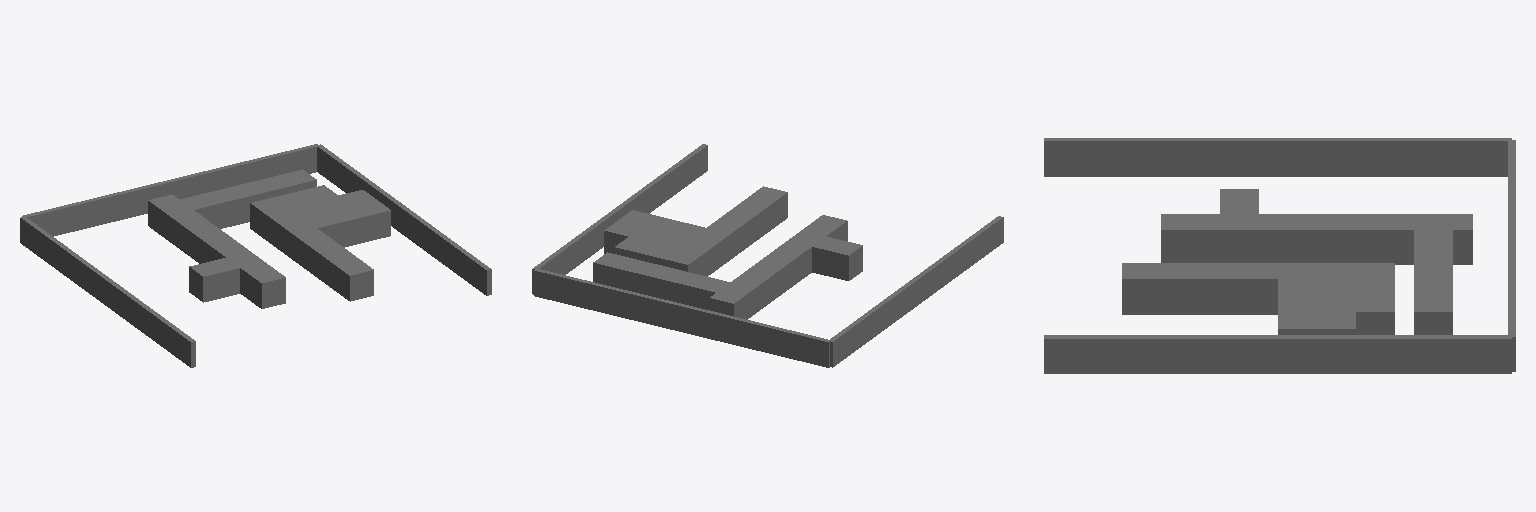
URDF robot description (plane):
<?xml version="0.0" ?>
<robot name="plane">
  <link name="planeLink">
  <contact>
      <lateral_friction value="1"/>
  </contact>
    <inertial>
      <origin rpy="0 0 0" xyz="0 0 0"/>
       <mass value=".0"/>
       <inertia ixx="0" ixy="0" ixz="0" iyy="0" iyz="0" izz="0"/>
    </inertial>
    <visual>
      <origin rpy="0 0 0" xyz="0 0 0"/>
      <geometry>
				<mesh filename="plane100.obj" scale="1 1 1"/>
      </geometry>
       <material name="white">
        <color rgba="1 1 1 1"/>
      </material>
    </visual>
    <collision>
      <origin rpy="0 0 0" xyz="0 0 -5"/>
      <geometry>
	 	<box size="200 200 10"/>
      </geometry>
    </collision>
  </link>

  <joint name="box_2_joint" type="fixed">
    <origin rpy="0 0 0" xyz="0 0 0.05"/>
    <parent link="planeLink"/>
    <child link="box_2"/>
  </joint>

  <link name="box_2">
  	<visual>
      <origin rpy="0 0 0" xyz="-2 -0.5 0"/>
      <geometry>
	 	<box size="1 0.5 0.5"/>
      </geometry>
      <material name="grey">
	    <color rgba="0.5 0.5 0.5 1"/>
	  </material>
    </visual>
    <collision>
      <origin rpy="0 0 0" xyz="-2 -0.5 0"/>
      <geometry>
	 	<box size="1 0.5 0.5"/>
      </geometry>
    </collision>
    <inertial>
      <mass value="1"/>
      <inertia ixx="0.0" ixy="0.0" ixz="0.0" iyy="0.0" iyz="0.0" izz="0.0"/>
    </inertial>
  </link>
  
    <joint name="box_1_joint" type="fixed">
      <origin rpy="0 0 0" xyz="0 0 0.05"/>
      <parent link="planeLink"/>
      <child link="box_1"/>
    </joint>

    <link name="box_1">
    	<visual>
        <origin rpy="0 0 0" xyz="-1.5 0.5 0"/>
        <geometry>
  	 	<box size="0.5 4 0.5"/>
        </geometry>
        <material name="grey">
  	    <color rgba="0.5 0.5 0.5 1"/>
  	  </material>
      </visual>
      <collision>
        <origin rpy="0 0 0" xyz="-1.5 0 0"/>
        <geometry>
  	 	<box size="0.5 4 0.5"/>
        </geometry>
      </collision>
      <inertial>
        <mass value="1"/>
        <inertia ixx="0.0" ixy="0.0" ixz="0.0" iyy="0.0" iyz="0.0" izz="0.0"/>
      </inertial>
    </link>
    
    <joint name="box_3_joint" type="fixed">
      <origin rpy="0 0 0" xyz="0 0 0.05"/>
      <parent link="planeLink"/>
      <child link="box_3"/>
    </joint>

    <link name="box_3">
    	<visual>
        <origin rpy="0 0 0" xyz="0 -0.5 0"/>
        <geometry>
  	 	<box size="0.5 3 0.5"/>
        </geometry>
        <material name="grey">
  	    <color rgba="0.5 0.5 0.5 1"/>
  	  </material>
      </visual>
      <collision>
        <origin rpy="0 0 0" xyz="0 -0.5 0"/>
        <geometry>
  	 	<box size="0.5 3 0.5"/>
        </geometry>
      </collision>
      <inertial>
        <mass value="1"/>
        <inertia ixx="0.0" ixy="0.0" ixz="0.0" iyy="0.0" iyz="0.0" izz="0.0"/>
      </inertial>
    </link>


    <joint name="box_4_joint" type="fixed">
      <origin rpy="0 0 0" xyz="0 0 0.05"/>
      <parent link="planeLink"/>
      <child link="box_4"/>
    </joint>

    <link name="box_4">
    	<visual>
        <origin rpy="0 0 0" xyz="1 0.5 0"/>
        <geometry>
  	 	<box size="1.5 1 0.5"/>
        </geometry>
        <material name="grey">
  	    <color rgba="0.5 0.5 0.5 1"/>
  	  </material>
      </visual>
      <collision>
        <origin rpy="0 0 0" xyz="1 0.5 0"/>
        <geometry>
  	 	<box size="1.5 1 0.5"/>
        </geometry>
      </collision>
      <inertial>
        <mass value="1"/>
        <inertia ixx="0.0" ixy="0.0" ixz="0.0" iyy="0.0" iyz="0.0" izz="0.0"/>
      </inertial>
    </link>


    <joint name="box_5_joint" type="fixed">
      <origin rpy="0 0 0" xyz="0 0 0.05"/>
      <parent link="planeLink"/>
      <child link="box_5"/>
    </joint>

    <link name="box_5">
    	<visual>
        <origin rpy="0 0 0" xyz="0 2 0"/>
        <geometry>
  	 	<box size="2.5 0.5 0.5"/>
        </geometry>
        <material name="grey">
  	    <color rgba="0.5 0.5 0.5 1"/>
  	  </material>
      </visual>
      <collision>
        <origin rpy="0 0 0" xyz="0 2 0"/>
        <geometry>
  	 	<box size="2.5 0.5 0.5"/>
        </geometry>
      </collision>
      <inertial>
        <mass value="1"/>
        <inertia ixx="0.0" ixy="0.0" ixz="0.0" iyy="0.0" iyz="0.0" izz="0.0"/>
      </inertial>
    </link>
    
    <joint name="wall_1_joint" type="fixed">
      <origin rpy="0 0 0" xyz="0 0 0.05"/>
      <parent link="planeLink"/>
      <child link="wall_1"/>
    </joint>

    <link name="wall_1">
    	<visual>
        <origin rpy="0 0 0" xyz="-4 0 0"/>
        <geometry>
  	 	<box size="0.1 6 0.5"/>
        </geometry>
        <material name="grey">
  	    <color rgba="0.5 0.5 0.5 1"/>
  	  </material>
      </visual>
      <collision>
        <origin rpy="0 0 0" xyz="-4 0 0"/>
        <geometry>
  	 	<box size="0.1 6 0.5"/>
        </geometry>
      </collision>
      <inertial>
        <mass value="1"/>
        <inertia ixx="0.0" ixy="0.0" ixz="0.0" iyy="0.0" iyz="0.0" izz="0.0"/>
      </inertial>
    </link>    

    <joint name="wall_2_joint" type="fixed">
      <origin rpy="0 0 0" xyz="0 0 0.05"/>
      <parent link="planeLink"/>
      <child link="wall_2"/>
    </joint>

    <link name="wall_2">
    	<visual>
        <origin rpy="0 0 0" xyz="2 0 0"/>
        <geometry>
  	 	<box size="0.1 6 0.5"/>
        </geometry>
        <material name="grey">
  	    <color rgba="0.5 0.5 0.5 1"/>
  	  </material>
      </visual>
      <collision>
        <origin rpy="0 0 0" xyz="2 0 0"/>
        <geometry>
  	 	<box size="0.1 6 0.5"/>
        </geometry>
      </collision>
      <inertial>
        <mass value="1"/>
        <inertia ixx="0.0" ixy="0.0" ixz="0.0" iyy="0.0" iyz="0.0" izz="0.0"/>
      </inertial>
    </link>    

    <joint name="wall_3_joint" type="fixed">
      <origin rpy="0 0 0" xyz="0 0 0.05"/>
      <parent link="planeLink"/>
      <child link="wall_3"/>
    </joint>

    <link name="wall_3">
    	<visual>
        <origin rpy="0 0 0" xyz="-1 3 0"/>
        <geometry>
  	 	<box size="6 0.1 0.5"/>
        </geometry>
        <material name="grey">
  	    <color rgba="0.5 0.5 0.5 1"/>
  	  </material>
      </visual>
      <collision>
        <origin rpy="0 0 0" xyz="-1 3 0"/>
        <geometry>
  	 	<box size="6 0.1 0.5"/>
        </geometry>
      </collision>
      <inertial>
        <mass value="1"/>
        <inertia ixx="0.0" ixy="0.0" ixz="0.0" iyy="0.0" iyz="0.0" izz="0.0"/>
      </inertial>
    </link>    
    
    <joint name="wall_4_joint" type="fixed">
      <origin rpy="0 0 0" xyz="0 0 0.05"/>
      <parent link="planeLink"/>
      <child link="wall_4"/>
    </joint>

    <link name="wall_4">
    	<visual>
        <origin rpy="0 0 0" xyz="0.5 1 0"/>
        <geometry>
  	 	<box size="1.5 1 0.5"/>
        </geometry>
        <material name="grey">
  	    <color rgba="0.5 0.5 0.5 1"/>
  	  </material>
      </visual>
      <collision>
        <origin rpy="0 0 0" xyz="-1 -3 0"/>
        <geometry>
  	 	<box size="1.5 1 0.5"/>
        </geometry>
      </collision>
      <inertial>
        <mass value="1"/>
        <inertia ixx="0.0" ixy="0.0" ixz="0.0" iyy="0.0" iyz="0.0" izz="0.0"/>
      </inertial>
    </link>    
    
</robot>

--- Render facts (derived) ---
The picture shows the robot from 3 angles, left to right: view 1: azimuth 30°, elevation 25°; view 2: azimuth 150°, elevation 25°; view 3: azimuth 270°, elevation 25°; orthographic projection.
Robot: plane — 10 links, 9 joints (9 fixed); root link planeLink; default pose: all joints at 0.
Links seen in each view (by area): view 1: wall_3, box_1, wall_1, wall_2, box_3, box_5, box_4, wall_4, box_2; view 2: wall_3, wall_1, box_1, wall_2, box_5, box_3, box_4, wall_4, box_2; view 3: wall_2, wall_1, box_1, box_3, box_4, box_5, wall_4, wall_3, box_2.
Boxes of the visible links, box(x1,y1,x2,y2) form: wall_3: box(22, 144, 317, 236); box_1: box(148, 194, 285, 308); wall_1: box(20, 216, 195, 367); wall_2: box(316, 144, 491, 295); box_3: box(265, 208, 373, 301); box_5: box(180, 170, 316, 228); box_4: box(289, 190, 390, 247); wall_4: box(250, 185, 351, 247); box_2: box(189, 255, 251, 302); wall_3: box(534, 269, 831, 367); wall_1: box(830, 216, 1003, 367); box_1: box(709, 215, 847, 319); wall_2: box(532, 144, 707, 294); box_5: box(593, 252, 729, 309); box_3: box(678, 186, 787, 274); box_4: box(604, 210, 705, 253); wall_4: box(615, 237, 716, 276); box_2: box(802, 234, 862, 280); wall_2: box(1044, 335, 1511, 373); wall_1: box(1044, 138, 1511, 176); box_1: box(1161, 214, 1472, 264); box_3: box(1122, 263, 1355, 314); box_4: box(1278, 279, 1355, 334); box_5: box(1414, 230, 1452, 334); wall_4: box(1356, 263, 1394, 334); wall_3: box(1508, 140, 1515, 371); box_2: box(1220, 189, 1258, 221).
Size in the robot's own frame: 6.1 by 6.05 by 0.5 metres.
0 mesh visuals loaded from 1 distinct referenced files (none loaded); not drawn: 1 (reference not matched to a file when rendering).